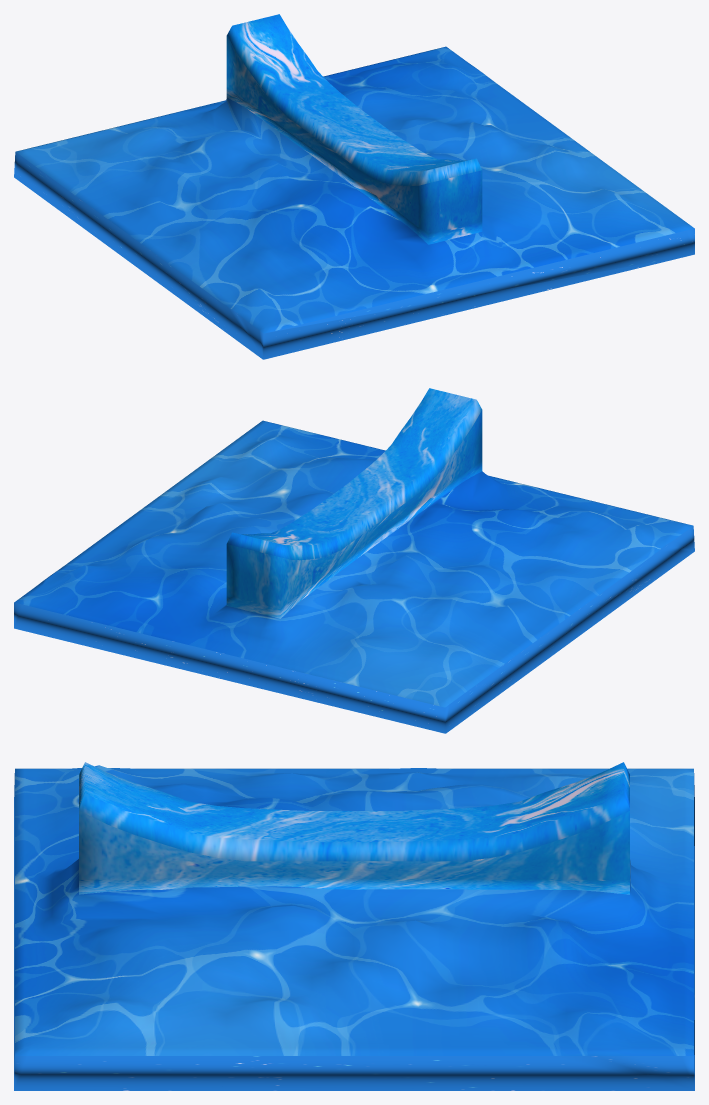
The model's file is Water Shrine Base 1.fbx.
3 views of the same model, one above another, from view 1: azimuth 30°, elevation 25°; view 2: azimuth 150°, elevation 25°; view 3: azimuth 270°, elevation 25° (orthographic). The views are drawn at different scales.
Visible parts, largest first — view 1: Water Shrine Base; view 2: Water Shrine Base; view 3: Water Shrine Base.
Boxes of the visible parts, bbox=[...] form: Water Shrine Base: bbox=[14, 14, 694, 359]; Water Shrine Base: bbox=[14, 388, 694, 733]; Water Shrine Base: bbox=[14, 762, 694, 1090].
Size of the model in its own units: 324 by 88.72 by 324.
Materials: 1 (1 with a texture image).
